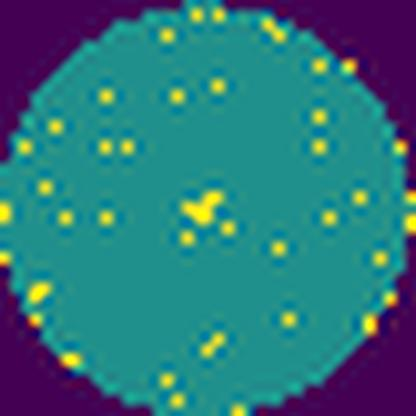Center: (181, 190, 225, 226)
